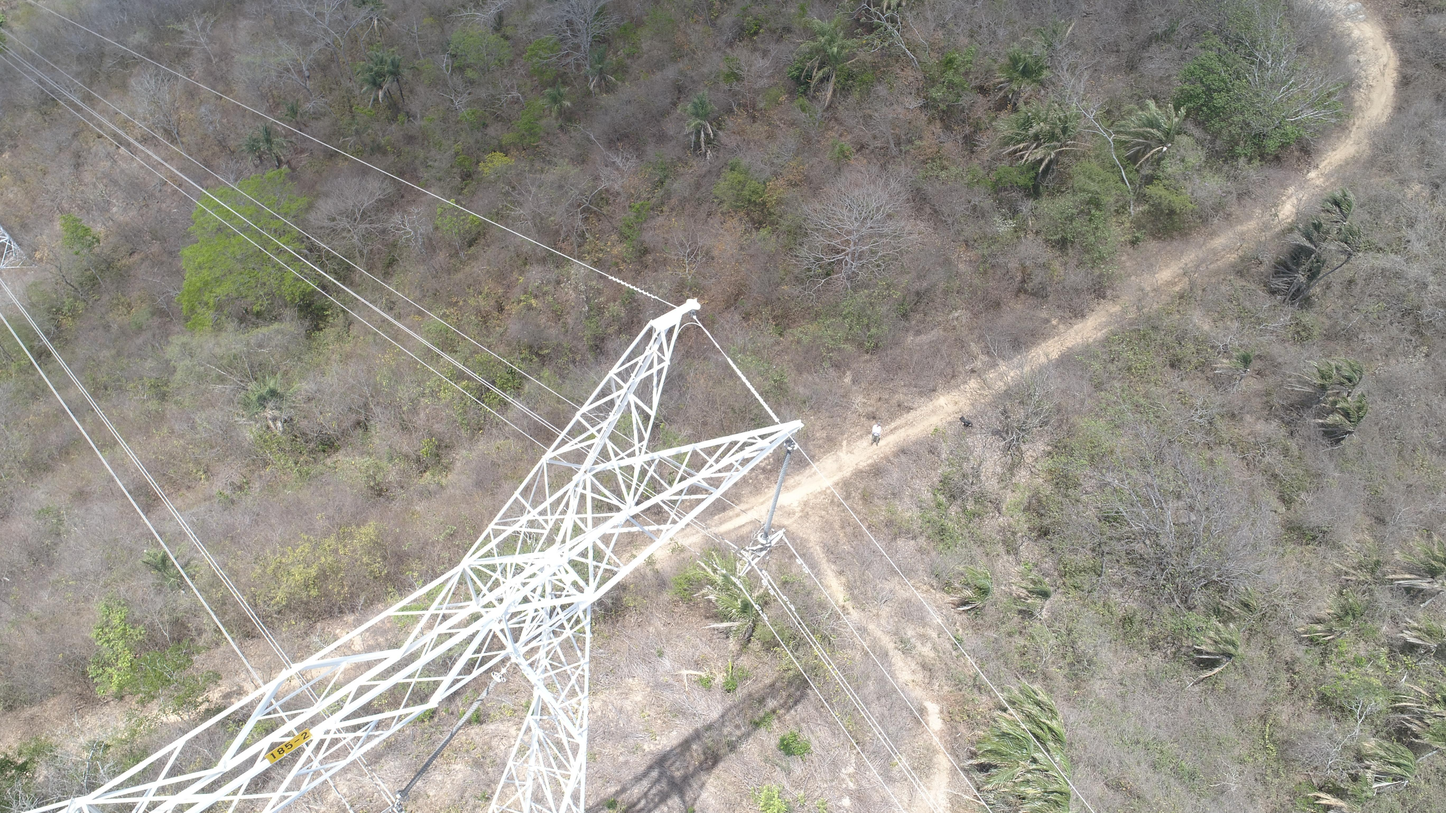power_tower: (17, 296, 811, 813), (0, 224, 45, 272)
